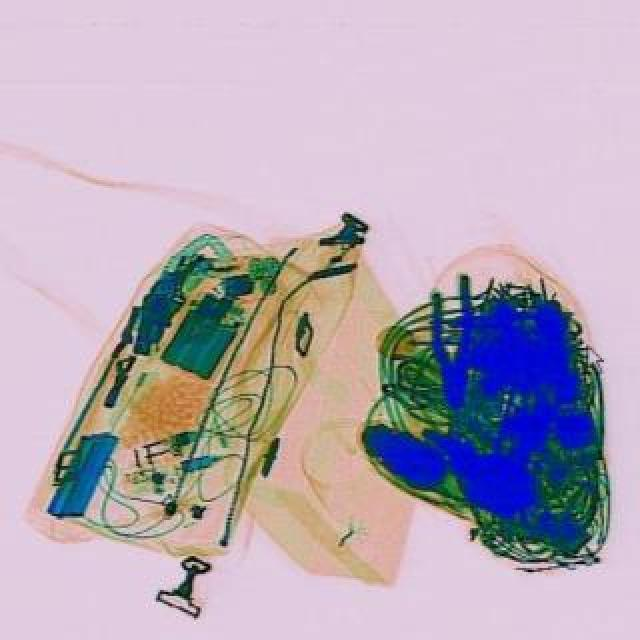wrench: (424, 272, 476, 410)
